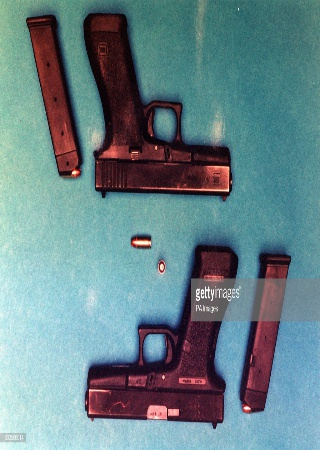handgun: (80, 9, 235, 209), (81, 242, 239, 429)
